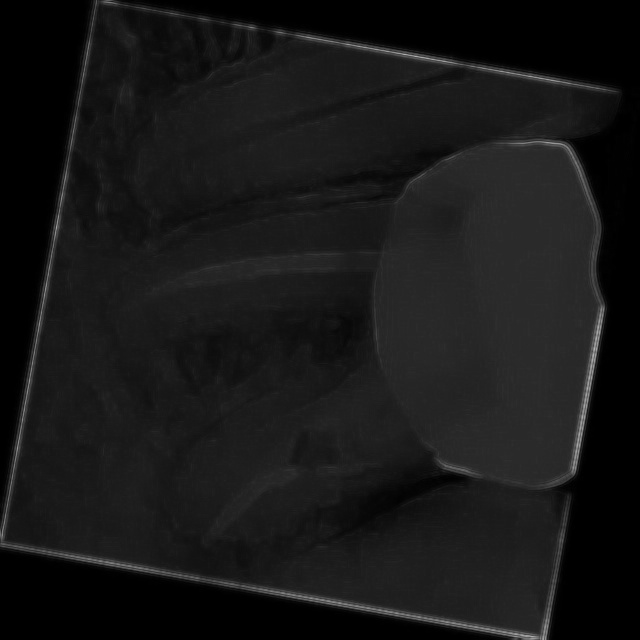Class 2- incomplete endodontic treatment: (61, 80, 535, 612)
